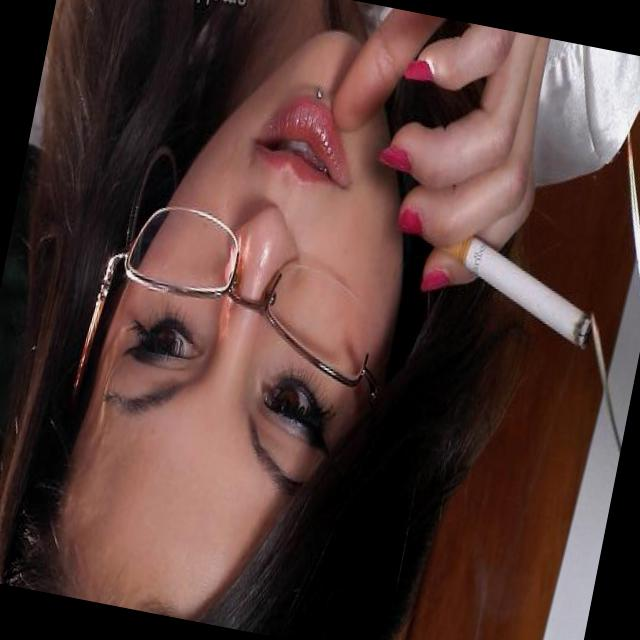smoke: (388, 181, 634, 382)
